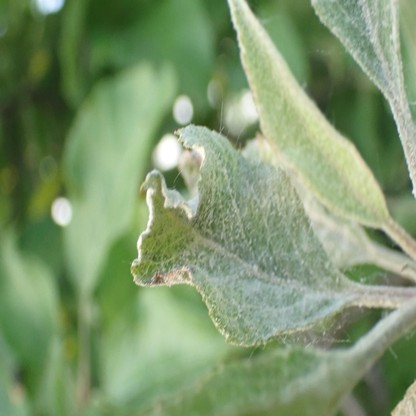powder: (133, 124, 345, 346), (227, 1, 388, 228), (312, 1, 416, 193)
